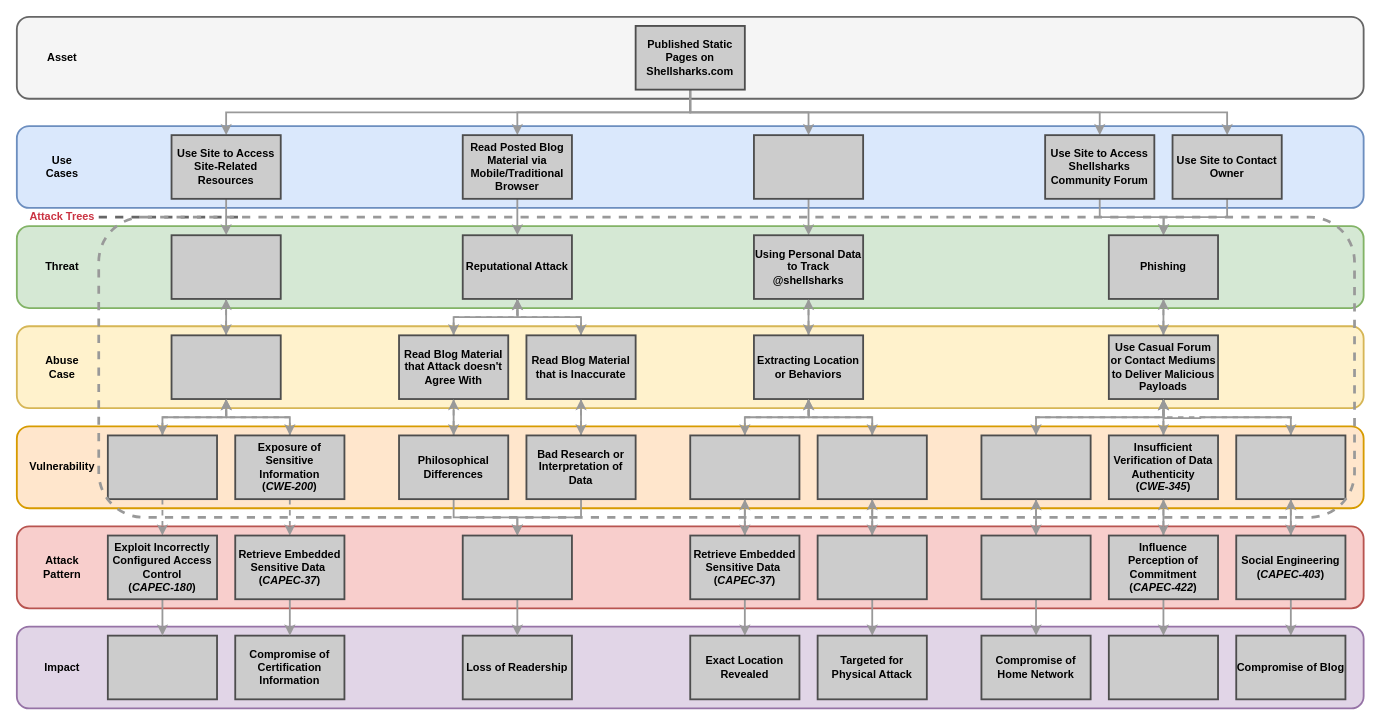
Some shapes in this 1380 by 724 pixel diagram are drawn without their labels. Here are the shapes that lost their labels. From the top down, the centre of each, then its label:
point 808,166: Read Captains Log(s)
point 225,266: Access Sensitive Resources
point 225,366: Access Resources via GitHub not set to Private
point 161,467: Improper Access Control ( CWE-284 )
point 744,467: Exposure of Sensitive Info through Metadata ( CWE-1230 )
point 871,467: Cleartext Storage of Sensitive Information ( CWE-312 )
point 1035,467: Trust Boundary Violation ( CWE-501 )
point 1290,467: Embedded Malicious Code ( CWE-506 )
point 516,567: Disparaging Remarks Made on Social Media
point 871,567: Collect Data from Common Resource Locations ( CAPEC-150 )
point 1035,567: Phishing Spear Phishing ( CAPEC-98/163 )
point 161,667: Privacy Exposure
point 1162,667: Compromise of Social Accounts
